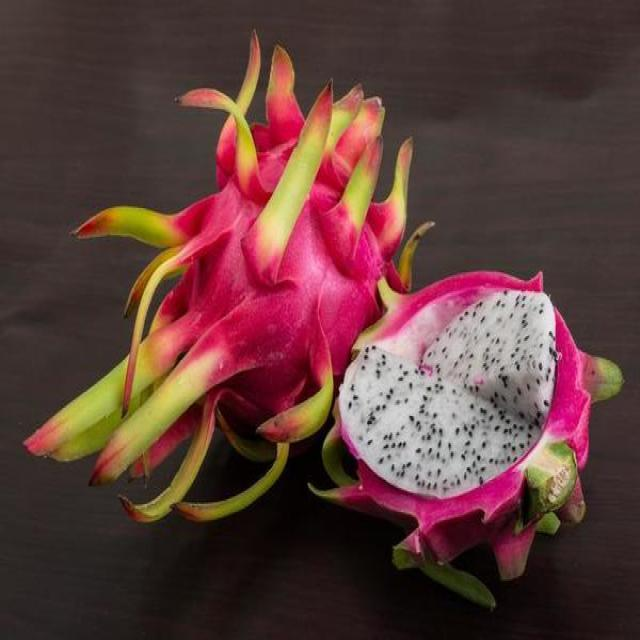dragon-fruit: (332, 269, 591, 546), (186, 137, 400, 442)
